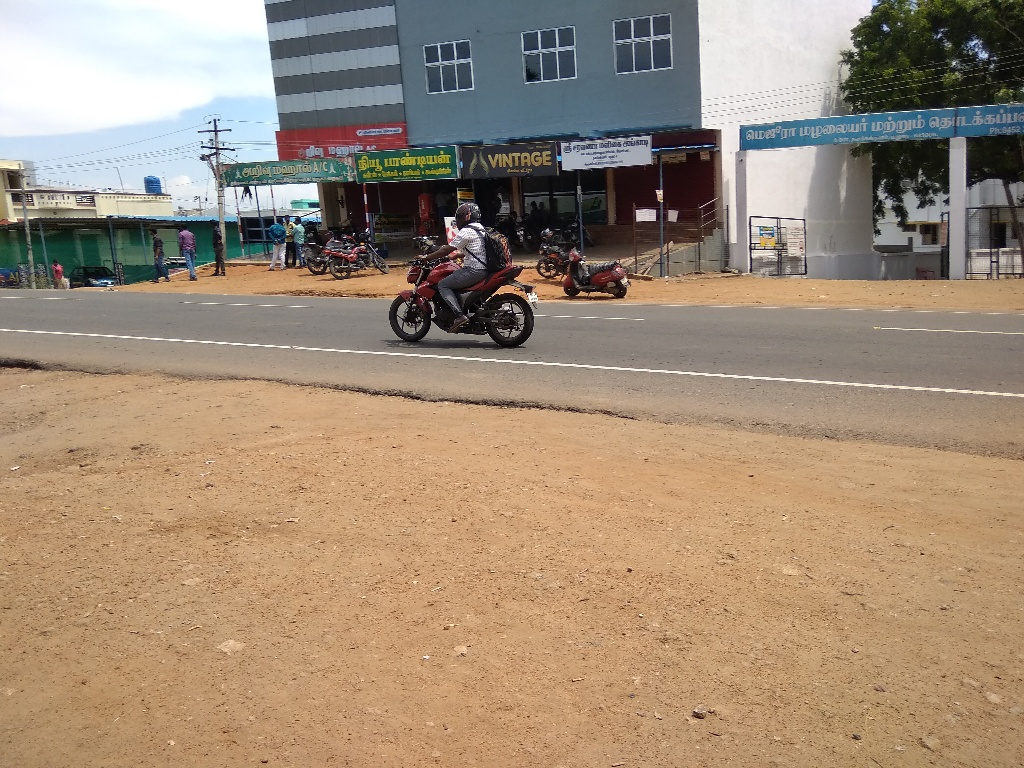biker: (382, 172, 551, 356)
helmet: (447, 189, 492, 238)
